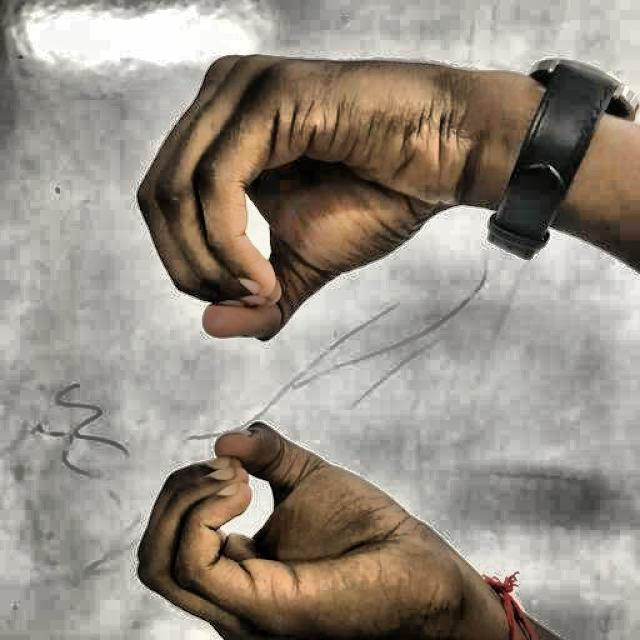Bisharga: (113, 38, 488, 638)
